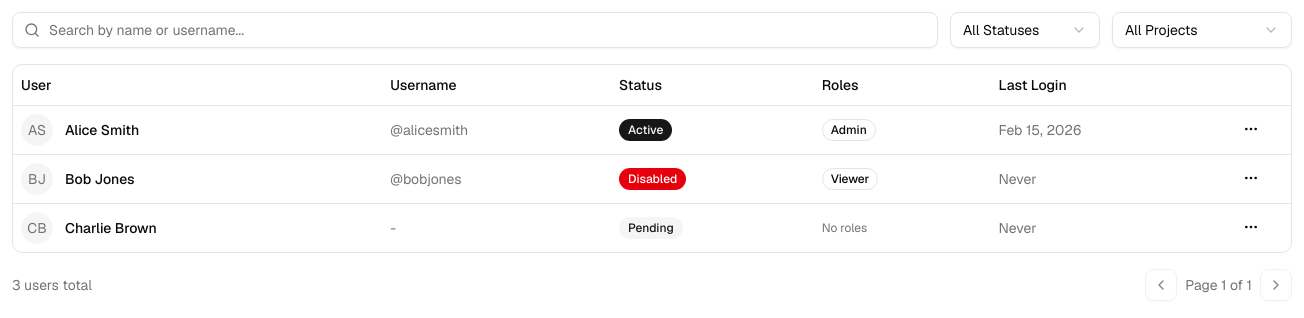
Test: UsersTable › filters users by search text
This screenshot has width=1304, height=318.
Step 1. Type "alice" into the field with placeholder "Search by name or username..." → (475, 30), box [12,12,938,48]
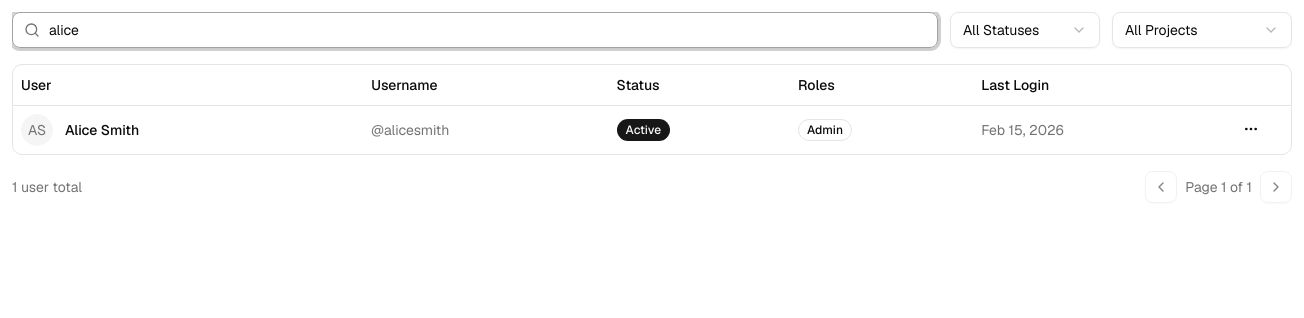
Expected: the text "Bob Jones" is gone
Expected: the text "Charlie Brown" is gone
Expected: the text "1 user total" is shown, [12,176,82,196]
